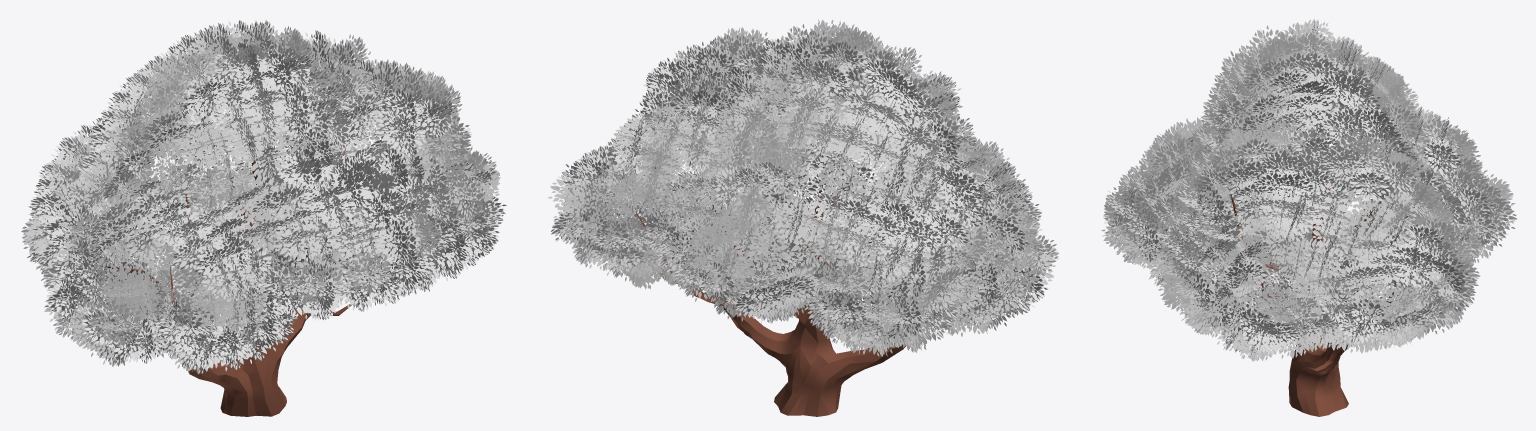
File: FINAL_Tree_Top_1.fbx
3 renders of one model, left to right at view 1: azimuth 30°, elevation 25°; view 2: azimuth 150°, elevation 25°; view 3: azimuth 270°, elevation 25°, orthographic. The views are drawn at different scales.
Visible parts, largest first — view 1: Tree_free_02; view 2: Tree_free_02; view 3: Tree_free_02.
Part boxes in pixels (x1,y1,x2,y2): Tree_free_02: (21, 20, 506, 416); Tree_free_02: (548, 19, 1059, 416); Tree_free_02: (1101, 19, 1517, 416).
Bounding box in the file's own units: 1213 × 988 × 1066.
